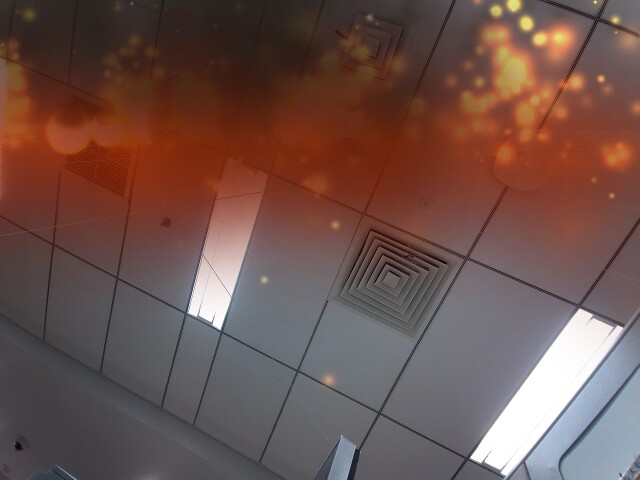fire: (45, 105, 91, 160), (93, 106, 132, 154)
